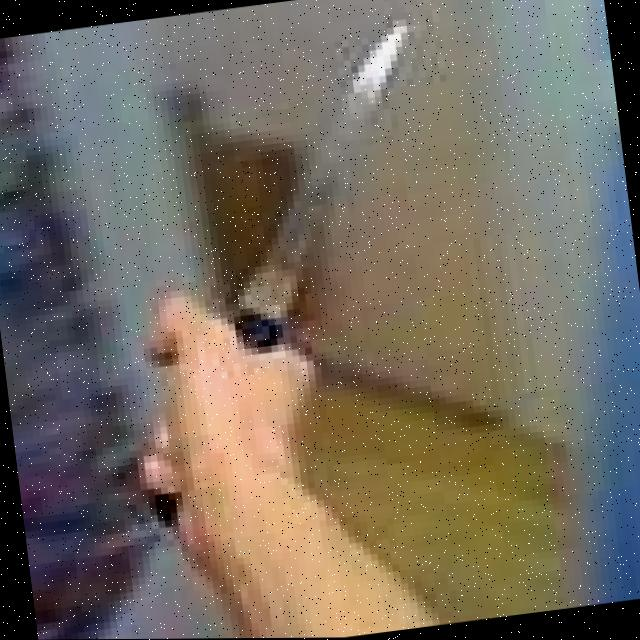knife: (195, 6, 447, 359)
